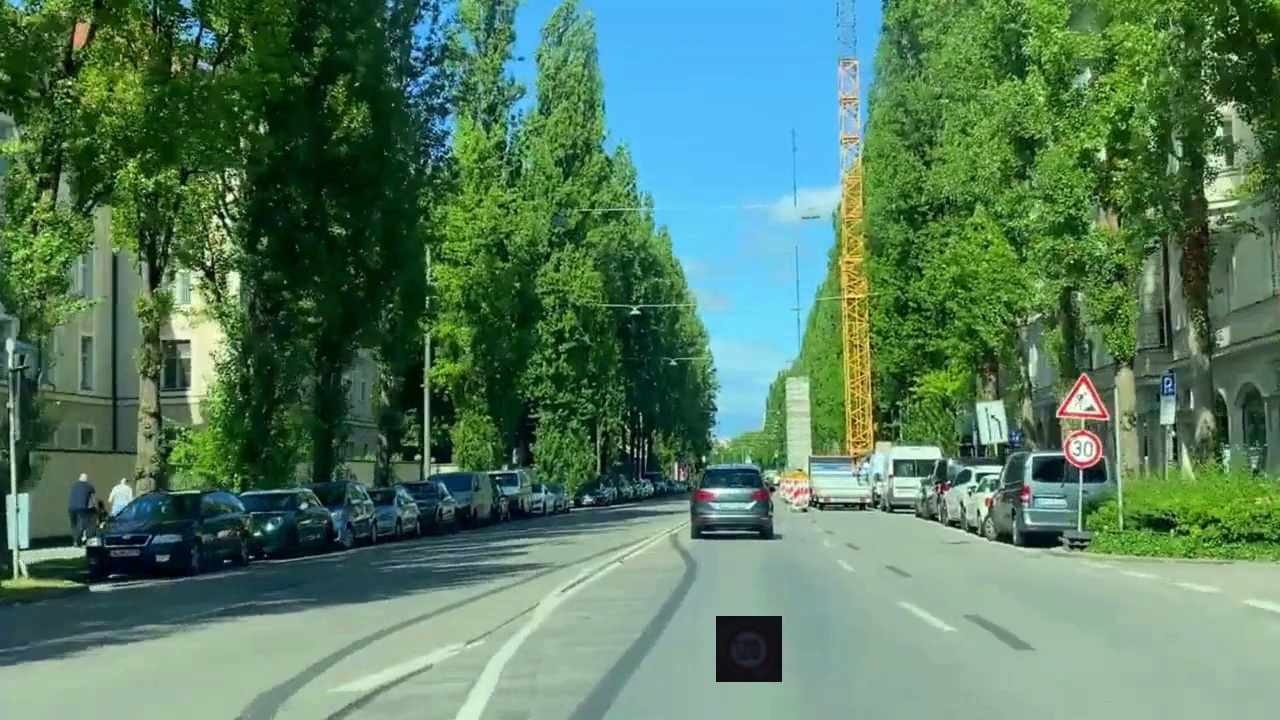Speed 120: (716, 616, 782, 682)
